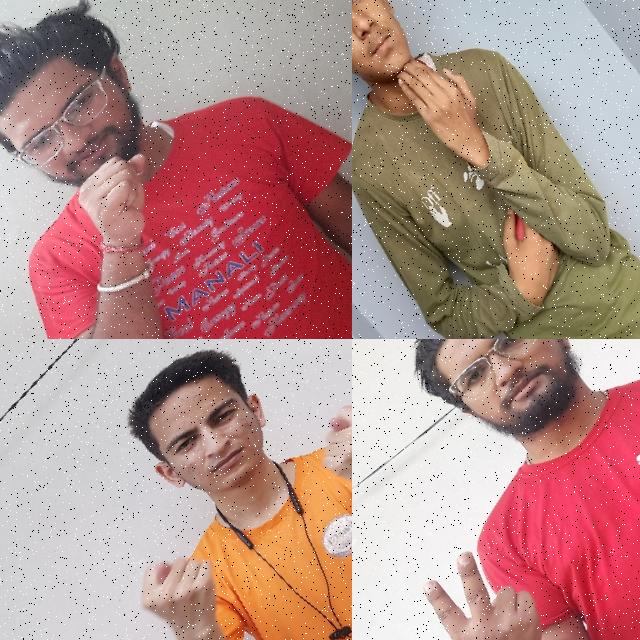Chin Flick: (352, 0, 530, 205)
Dulya: (113, 526, 252, 640), (289, 377, 352, 518)
Fist Mouth: (0, 0, 239, 289)
Reversed Victory: (400, 526, 587, 640)
